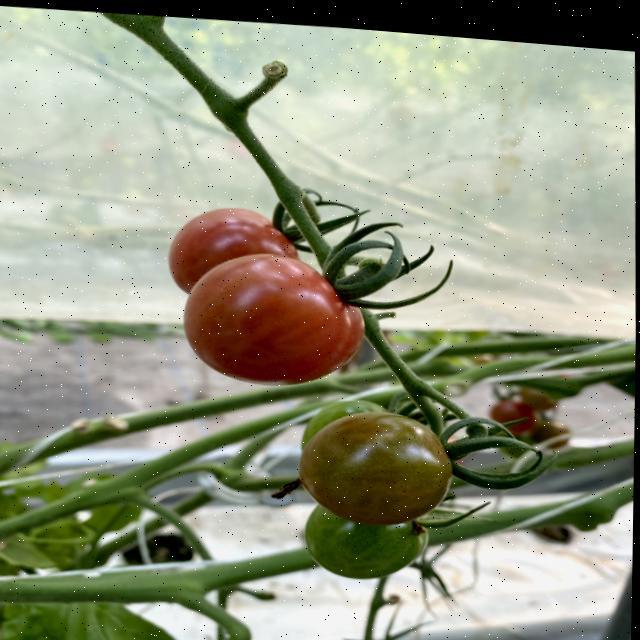ripe1: (300, 406, 453, 530)
ripe2: (186, 249, 367, 392)
